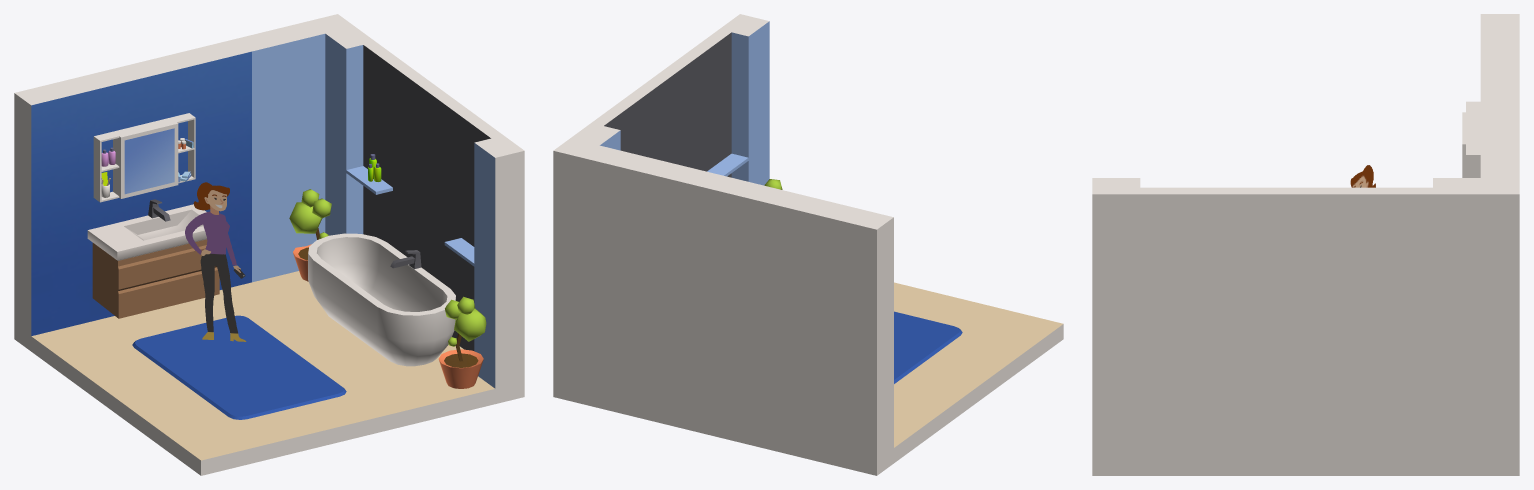
The model's file is SM_BathroomCharacter.gltf.
3 views of the same model, side by side, from view 1: azimuth 30°, elevation 25°; view 2: azimuth 150°, elevation 25°; view 3: azimuth 270°, elevation 25° (orthographic). The views are drawn at different scales.
Visible parts, largest first — view 1: Plane, Plane.002, Plane.005, Plane.003, Plane.004, Bathroom_Character, Plane.006, Plane.001; view 2: Plane, Plane.005; view 3: Plane, Plane.004.
Part boxes in pixels (bbox=[...]): Plane: bbox=[14, 14, 524, 475]; Plane.002: bbox=[308, 233, 455, 366]; Plane.005: bbox=[132, 315, 346, 419]; Plane.003: bbox=[87, 199, 219, 318]; Plane.004: bbox=[93, 113, 195, 202]; Bathroom_Character: bbox=[185, 182, 246, 341]; Plane.006: bbox=[438, 296, 486, 388]; Plane.001: bbox=[289, 189, 331, 281]; Plane: bbox=[553, 14, 1063, 475]; Plane.005: bbox=[894, 311, 962, 383]; Plane: bbox=[1092, 14, 1519, 475]; Plane.004: bbox=[1462, 101, 1480, 177].
Size of the model in its own units: 4.4 by 3.2 by 4.4.
Materials: 2 (2 with a texture image).
